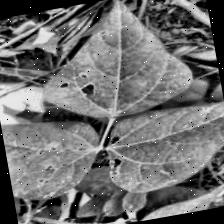ALS: (41, 0, 191, 121), (99, 90, 224, 198), (0, 79, 111, 200)
